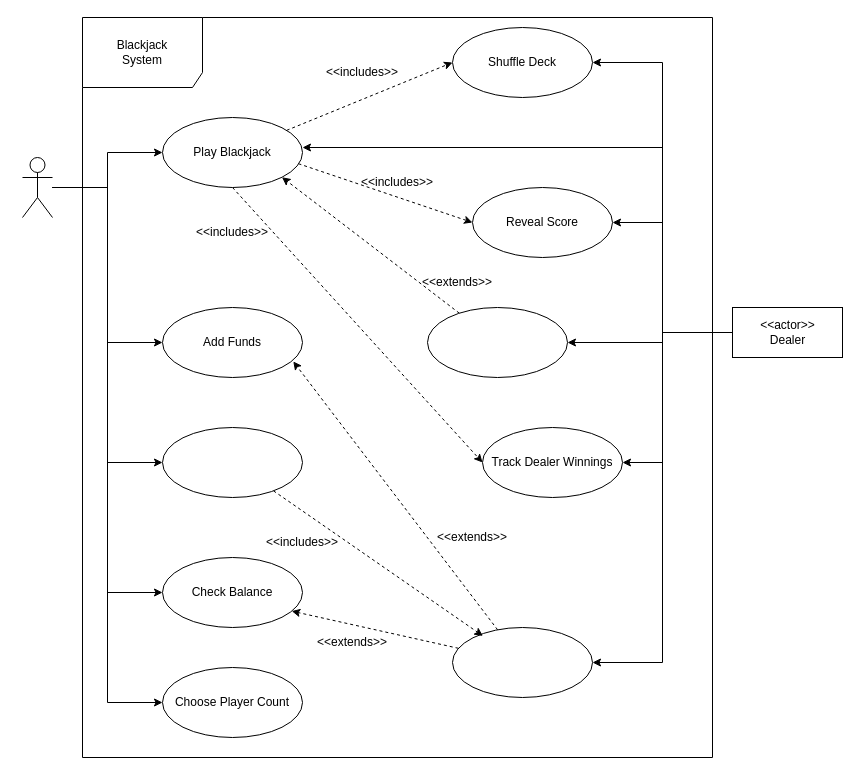
This 860x775 diagram has some shape labels left out. Here are the shapes that lost their labels. From the top down, the centre of each, then its label:
At pixel 37 187: "Players".
At pixel 497 342: "Payout".
At pixel 232 462: "Bet".
At pixel 522 662: "Track Player Banks".
